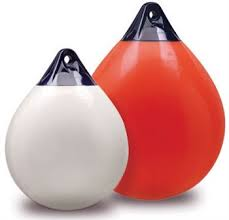buoy: (80, 38, 225, 199)
